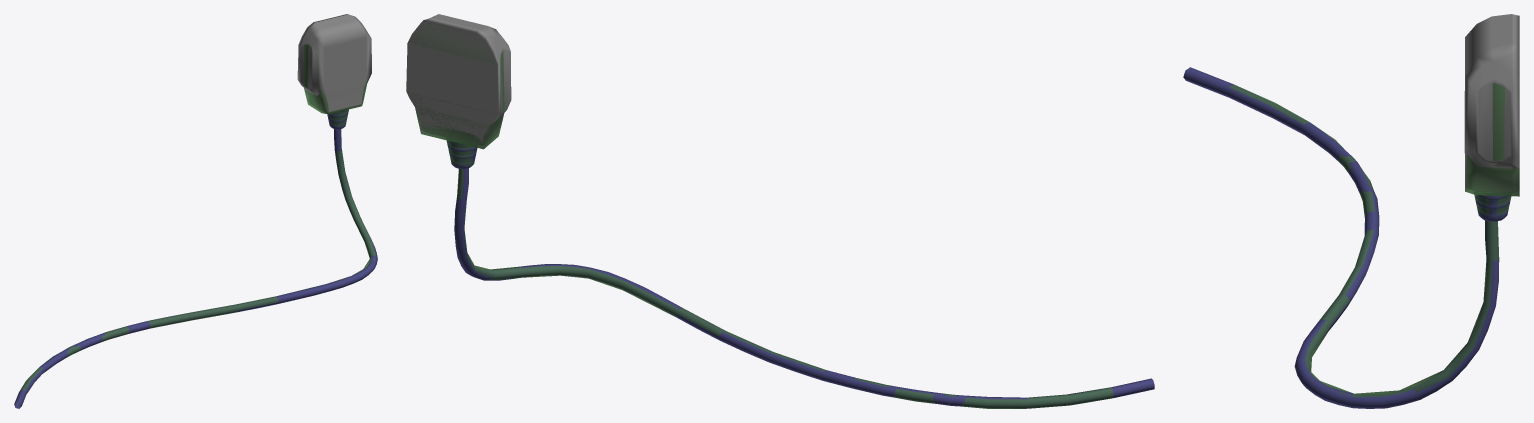
File: PlugCable_01_Mesh.fbx
3 views of the same model, side by side, from view 1: azimuth 30°, elevation 25°; view 2: azimuth 150°, elevation 25°; view 3: azimuth 270°, elevation 25° (orthographic). The views are drawn at different scales.
Parts seen in each view (by area): view 1: PlugCableA_01_LOD0, PlugCableA_01_Col; view 2: PlugCableA_01_LOD0, PlugCableA_01_Col; view 3: PlugCableA_01_LOD0, PlugCableA_01_Col.
Part boxes in pixels (x1,y1,x2,y2): PlugCableA_01_LOD0: [14, 14, 377, 408]; PlugCableA_01_Col: [19, 45, 375, 391]; PlugCableA_01_LOD0: [406, 14, 1154, 408]; PlugCableA_01_Col: [407, 23, 1113, 408]; PlugCableA_01_LOD0: [1183, 14, 1519, 408]; PlugCableA_01_Col: [1229, 83, 1519, 397].
Size of what is drawn, in the model's own units: 48 by 23.9 by 17.65.
